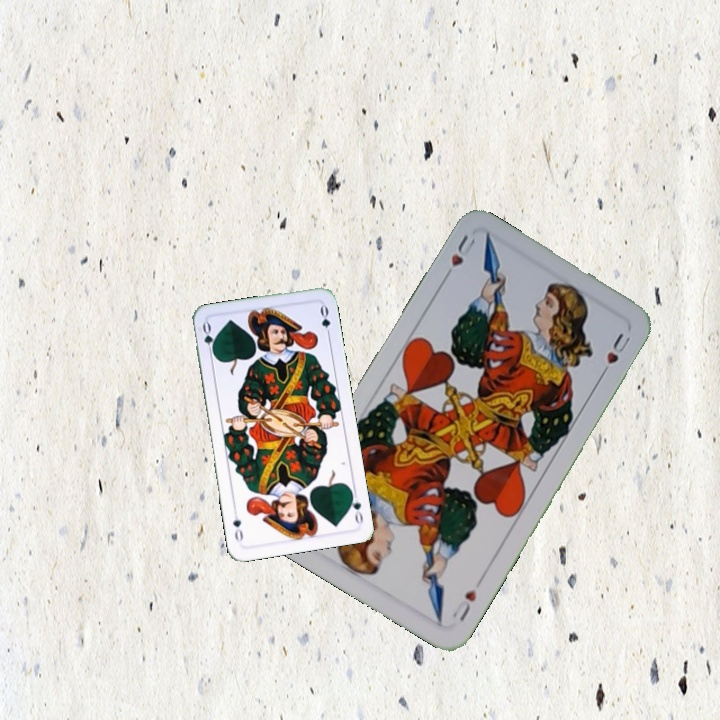GO: (198, 319, 218, 360), (346, 486, 366, 527)
HU: (439, 229, 478, 283), (448, 585, 479, 624)
